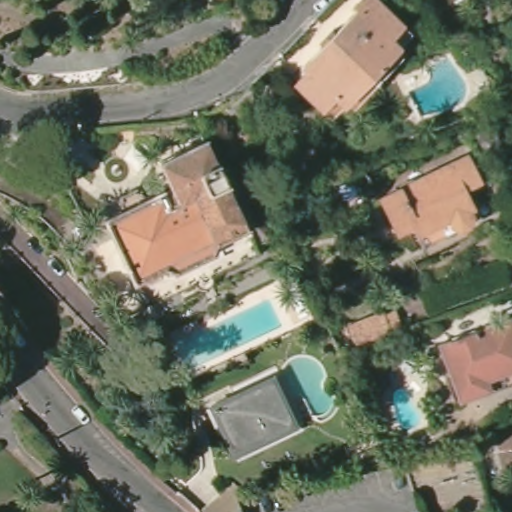pool: (156, 299, 281, 371), (401, 55, 469, 119), (272, 351, 336, 418), (387, 383, 425, 436)
